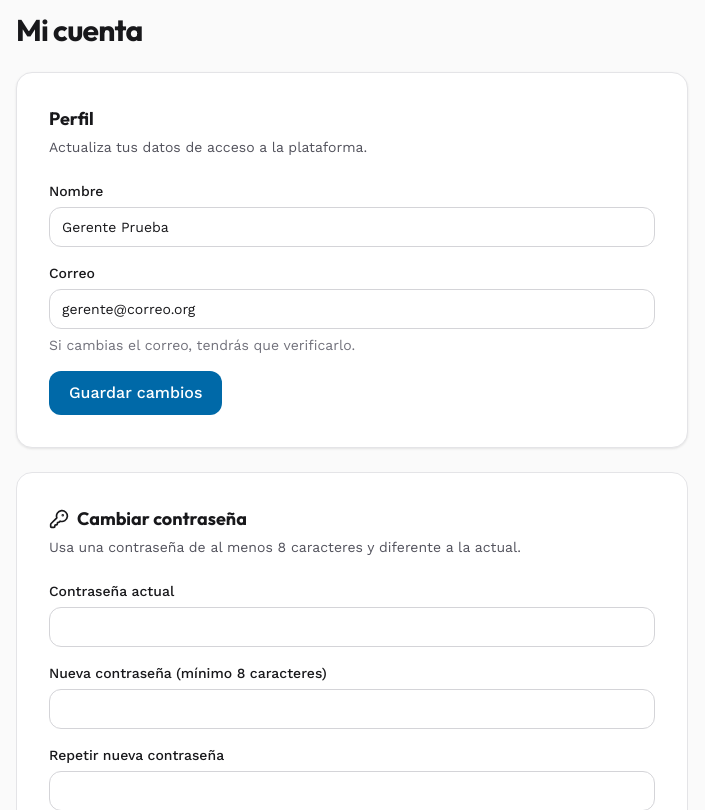
Test case: AccountPage › exige la contraseña actual al cambiar el correo
This screenshot has width=705, height=810.
Expected: the field labelled "Nombre" is shown, x1=49 y1=207 x2=655 y2=247
Replace the text in the field labelled "Correo" with "nuevo@correo.org" at (352, 309), box x1=49 y1=289 x2=655 y2=329
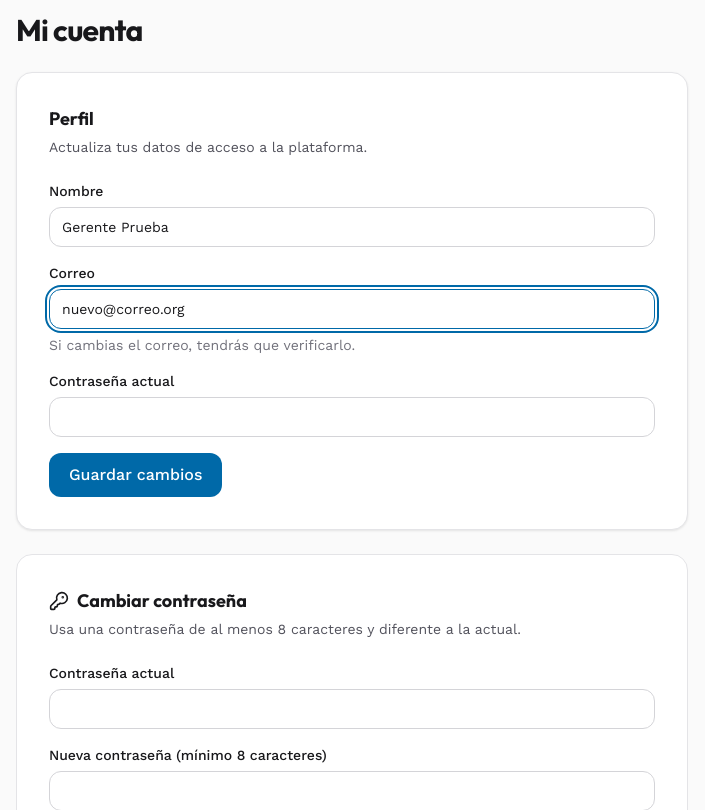
Click the button "Guardar cambios" at (136, 475), box x1=49 y1=453 x2=222 y2=497
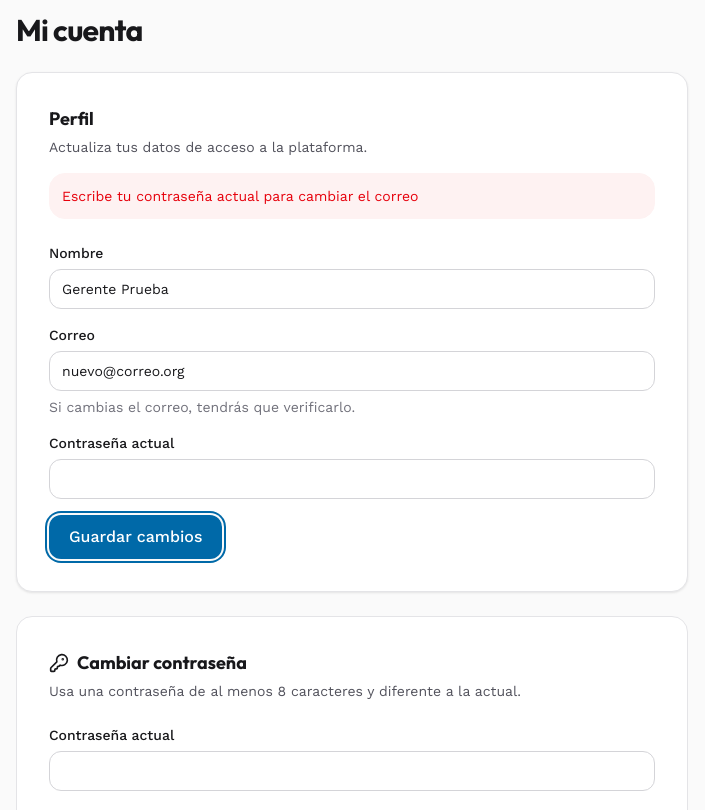
Now the password field labelled "Contraseña actual" below "Nombre" is shown, box x1=49 y1=459 x2=655 y2=499
Now the message reads "Escribe tu contraseña actual para cambiar el correo", box x1=62 y1=188 x2=418 y2=204
